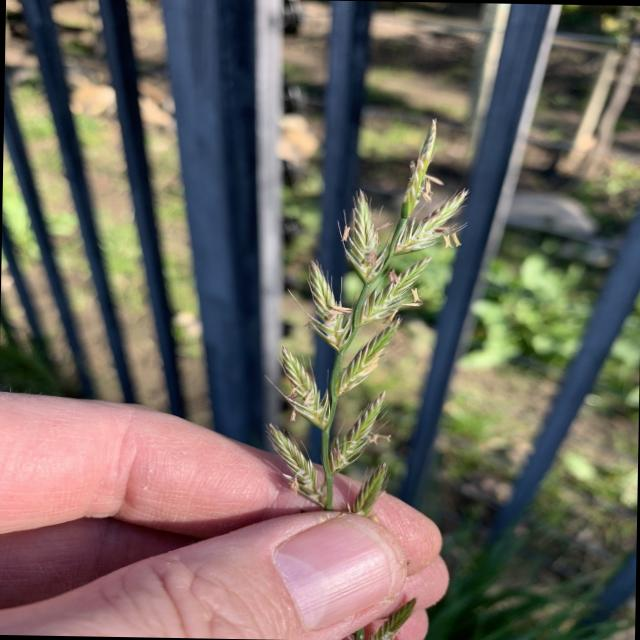Lolium: (258, 112, 474, 520)
